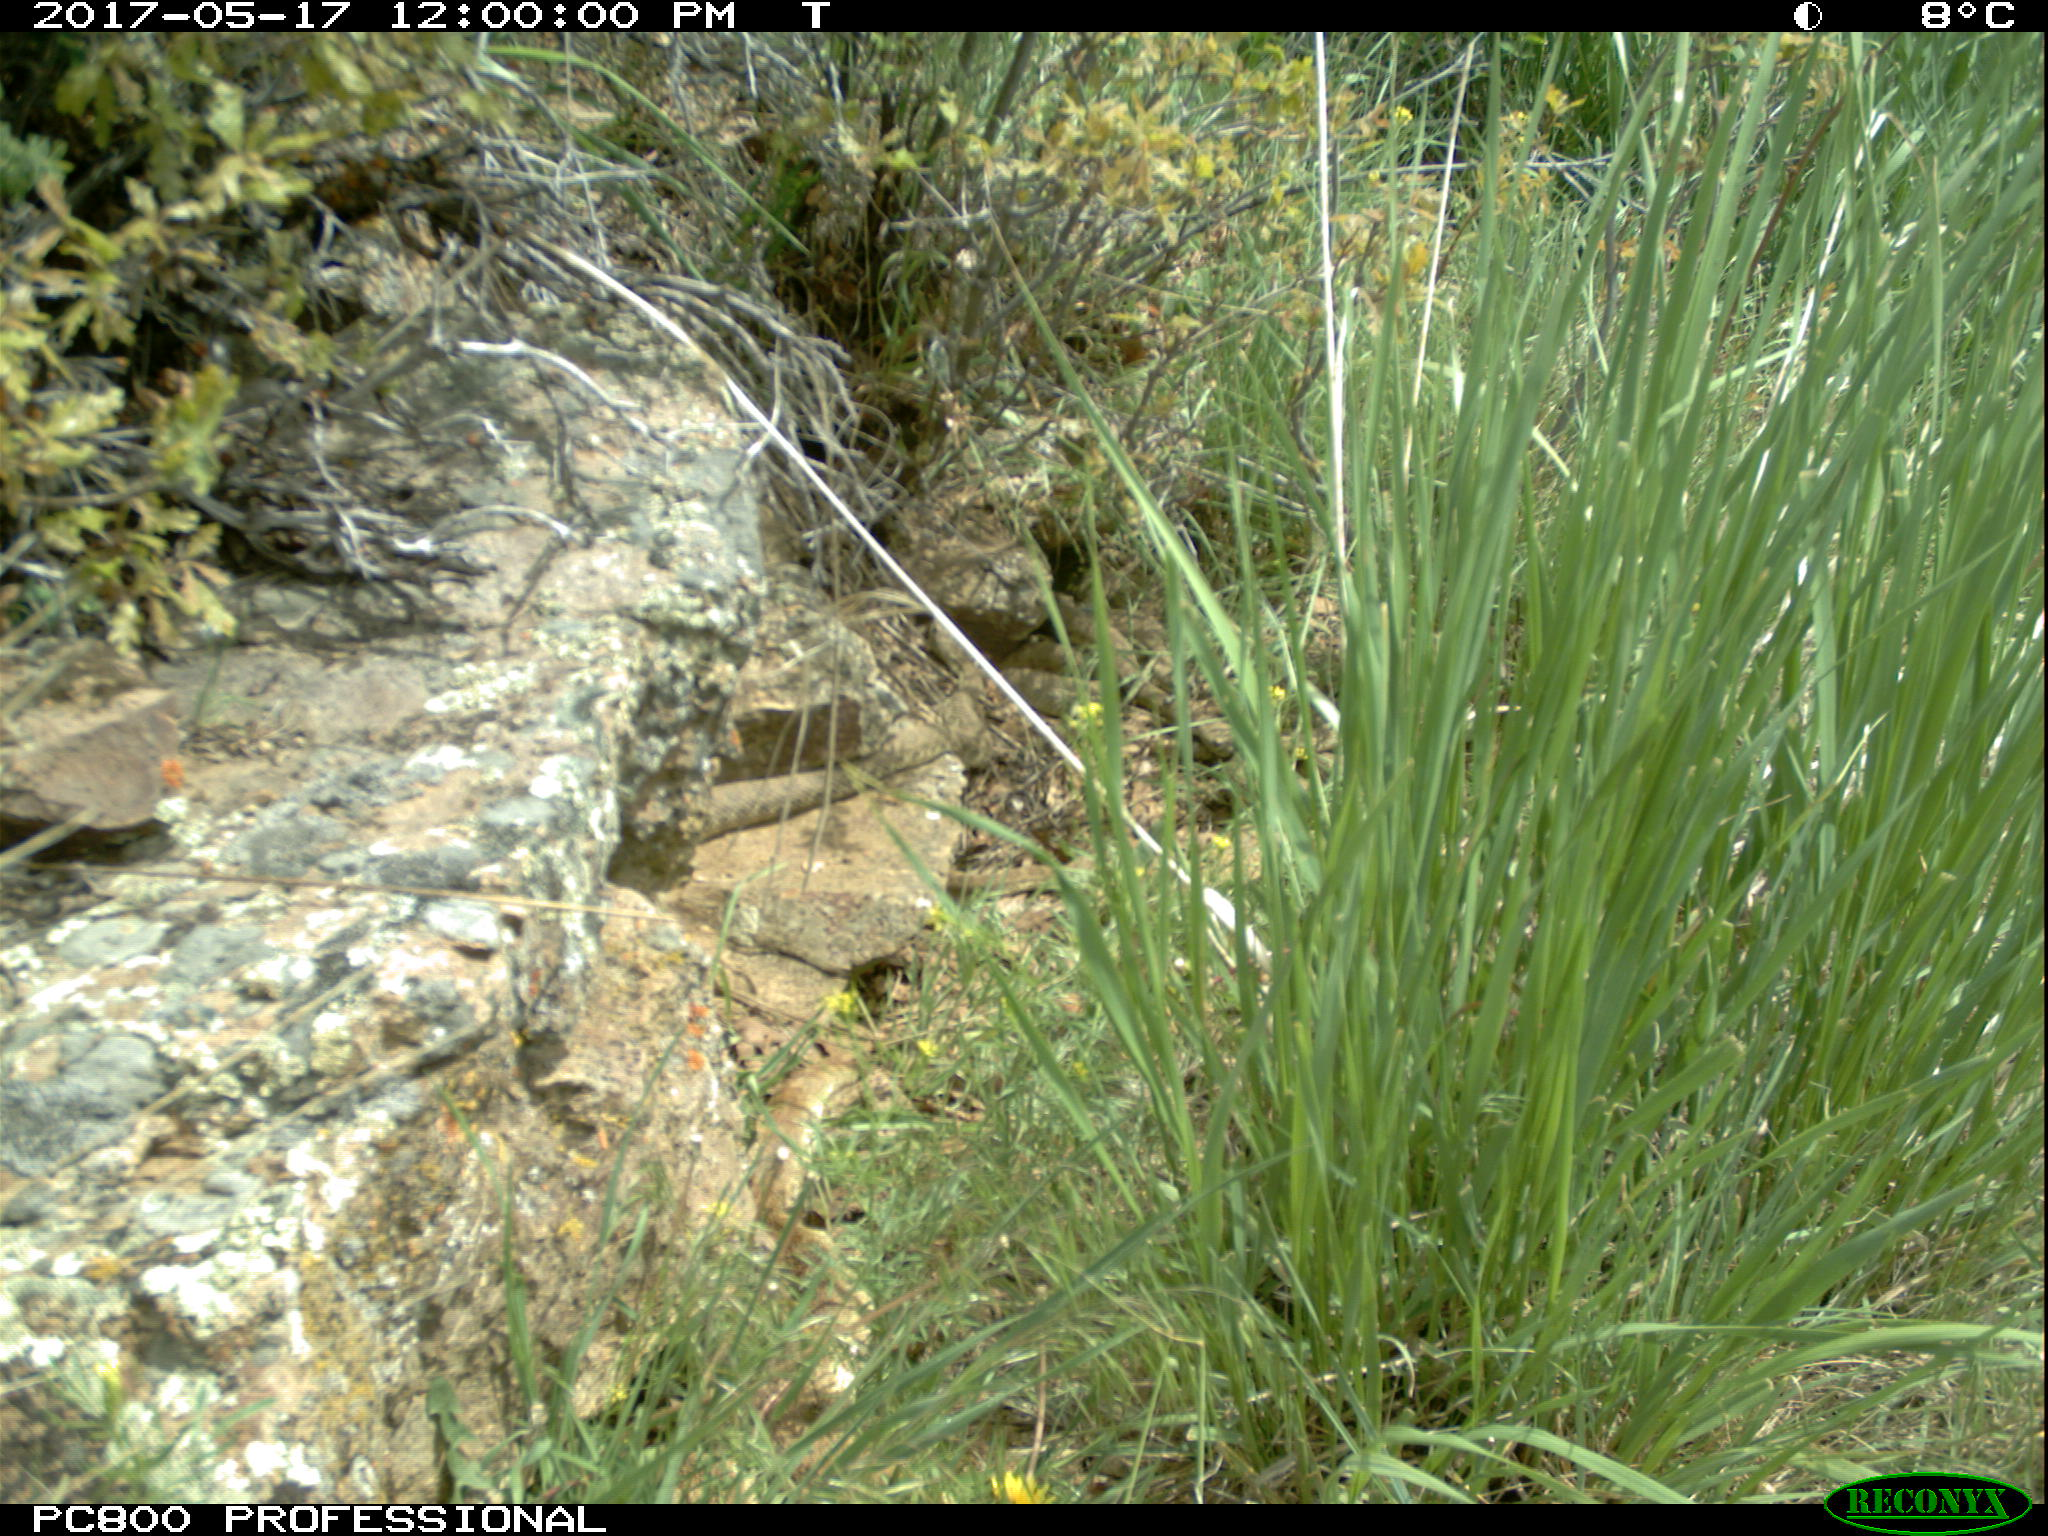snake: (751, 1063, 876, 1413), (697, 691, 953, 845), (1005, 599, 1147, 712)
